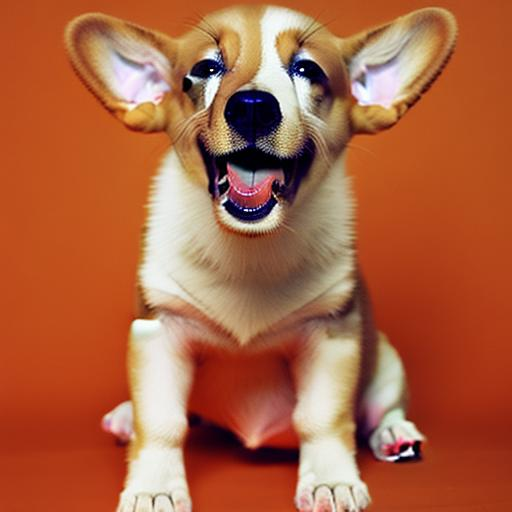eye: (288, 54, 335, 95), (176, 57, 230, 83)
